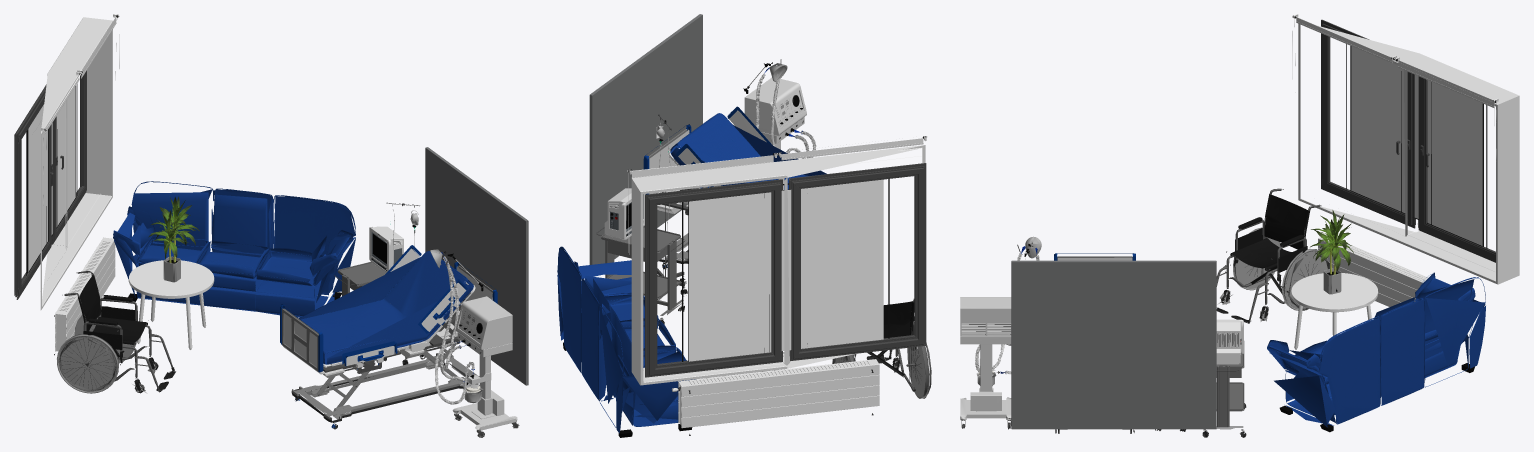
File: ward_b_furniture.glb
3 views of the same model, side by side, from view 1: azimuth 30°, elevation 25°; view 2: azimuth 150°, elevation 25°; view 3: azimuth 270°, elevation 25° (orthographic). The views are drawn at different scales.
Parts seen in each view (by area): view 1: ward_b_cgaxis_models_55_15_01, ward_b_cgaxis_models_48_30_02, ward_b_strips, ward_b_cgaxis_free_07_01, ward_b_cgaxis_models_46_05_02, ward_b_cgaxis_models_46_05_01, ward_b_cgaxis_models_55_07_02, ward_b_cgaxis_models_55_15_05, ward_b_cgaxis_models_55_15_03, ward_b_cgaxis_models_55_20_02, ward_b_cgaxis_models_55_20_01, ward_b_cgaxis_models_55_20_05 (+10 smaller); view 2: ward_b_cgaxis_models_46_05_02, ward_b_cgaxis_models_55_15_01, ward_b_cgaxis_models_46_05_01, ward_b_cgaxis_models_48_30_02, ward_b_cgaxis_free_07_01, ward_b_strips, ward_b_cgaxis_models_55_25_01, ward_b_cgaxis_free_07_02, ward_b_cgaxis_models_55_07_02, ward_b_cgaxis_models_55_15_03, ward_b_cgaxis_models_55_20_01, ward_b_cgaxis_models_55_03_04 (+10 smaller); view 3: ward_b_cgaxis_models_48_30_02, ward_b_cgaxis_models_55_15_01, ward_b_cgaxis_models_46_05_02, ward_b_strips, ward_b_cgaxis_models_46_05_01, ward_b_cgaxis_free_07_01, ward_b_cgaxis_models_55_07_02, ward_b_cgaxis_models_55_20_01, ward_b_cgaxis_models_55_20_02, ward_b_cgaxis_models_55_25_01, ward_b_cgaxis_models_46_05_03, ward_b_cgaxis_models_55_20_05 (+4 smaller).
Part boxes in pixels (x1,y1,x2,y2): ward_b_cgaxis_models_55_15_01: [113, 181, 473, 364]; ward_b_cgaxis_models_48_30_02: [425, 147, 528, 385]; ward_b_strips: [40, 17, 112, 310]; ward_b_cgaxis_free_07_01: [55, 237, 214, 351]; ward_b_cgaxis_models_46_05_02: [28, 86, 75, 272]; ward_b_cgaxis_models_46_05_01: [14, 70, 86, 299]; ward_b_cgaxis_models_55_07_02: [452, 259, 517, 430]; ward_b_cgaxis_models_55_15_05: [282, 265, 493, 422]; ward_b_cgaxis_models_55_15_03: [283, 248, 492, 377]; ward_b_cgaxis_models_55_20_02: [57, 306, 158, 393]; ward_b_cgaxis_models_55_20_01: [78, 275, 146, 349]; ward_b_cgaxis_models_55_20_05: [58, 271, 171, 391]; ward_b_cgaxis_models_46_05_02: [689, 179, 883, 361]; ward_b_cgaxis_models_55_15_01: [557, 113, 826, 433]; ward_b_cgaxis_models_46_05_01: [645, 163, 926, 377]; ward_b_cgaxis_models_48_30_02: [589, 14, 702, 264]; ward_b_cgaxis_free_07_01: [678, 359, 879, 428]; ward_b_strips: [631, 145, 925, 385]; ward_b_cgaxis_models_55_25_01: [601, 226, 683, 318]; ward_b_cgaxis_free_07_02: [632, 138, 923, 425]; ward_b_cgaxis_models_55_07_02: [744, 66, 806, 149]; ward_b_cgaxis_models_55_15_03: [649, 110, 766, 213]; ward_b_cgaxis_models_55_20_01: [883, 301, 915, 349]; ward_b_cgaxis_models_55_03_04: [604, 188, 645, 240]; ward_b_cgaxis_models_48_30_02: [1011, 260, 1216, 429]; ward_b_cgaxis_models_55_15_01: [1267, 272, 1485, 427]; ward_b_cgaxis_models_46_05_02: [1351, 46, 1482, 246]; ward_b_strips: [1298, 24, 1519, 284]; ward_b_cgaxis_models_46_05_01: [1321, 19, 1495, 262]; ward_b_cgaxis_free_07_01: [1291, 235, 1428, 349]; ward_b_cgaxis_models_55_07_02: [960, 255, 1026, 420]; ward_b_cgaxis_models_55_20_01: [1231, 194, 1309, 272]; ward_b_cgaxis_models_55_20_02: [1217, 227, 1328, 321]; ward_b_cgaxis_models_55_25_01: [1203, 341, 1244, 430]; ward_b_cgaxis_models_46_05_03: [1346, 44, 1487, 248]; ward_b_cgaxis_models_55_20_05: [1216, 188, 1329, 314].
Size of the model in its own units: 3.02 by 2.08 by 4.01.
Materials: 47 (12 with a texture image).
